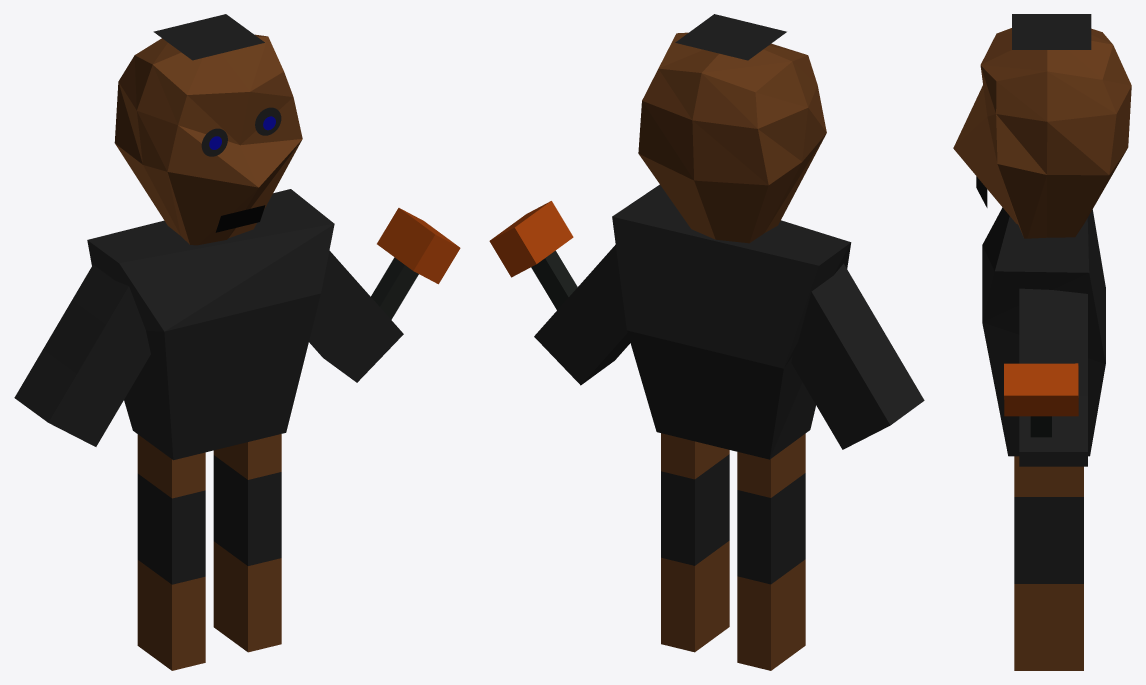
File: servant1.obj
3 renders of one model, left to right at view 1: azimuth 30°, elevation 25°; view 2: azimuth 150°, elevation 25°; view 3: azimuth 270°, elevation 25°, orthographic.
Parts seen in each view (by area): view 1: Cube.001, Cube, Cube.004, Cube.005, Cube.003, Cube.002, Cube.008, Plane.002, Cube.007, Plane; view 2: Cube.001, Cube, Cube.004, Cube.005, Cube.003, Cube.002, Cube.008, Plane.002, Cube.007; view 3: Cube, Cube.005, Cube.001, Cube.002, Cube.008, Plane.002, Cube.007.
Boxes of the visible parts, box(x1,y1,x2,y2) form: Cube.001: box(87, 189, 334, 460); Cube: box(114, 34, 302, 245); Cube.004: box(137, 434, 205, 670); Cube.005: box(213, 434, 281, 652); Cube.003: box(14, 264, 150, 446); Cube.002: box(309, 250, 403, 382); Cube.008: box(377, 208, 460, 284); Plane.002: box(153, 14, 264, 60); Cube.007: box(371, 257, 418, 319); Plane: box(215, 205, 265, 232); Cube.001: box(612, 184, 851, 459); Cube: box(638, 32, 826, 243); Cube.004: box(737, 433, 805, 670); Cube.005: box(661, 433, 729, 652); Cube.003: box(791, 263, 924, 449); Cube.002: box(534, 245, 630, 385); Cube.008: box(489, 201, 573, 277); Plane.002: box(675, 14, 786, 60); Cube.007: box(531, 250, 577, 309); Cube: box(953, 28, 1131, 238); Cube.005: box(1014, 456, 1083, 670); Cube.001: box(982, 207, 1105, 456); Cube.002: box(1019, 288, 1087, 466); Cube.008: box(1004, 363, 1078, 416); Plane.002: box(1012, 14, 1091, 49); Cube.007: box(1030, 416, 1051, 437).
Size of the model in its own units: 4.16 by 5.96 by 1.57.
